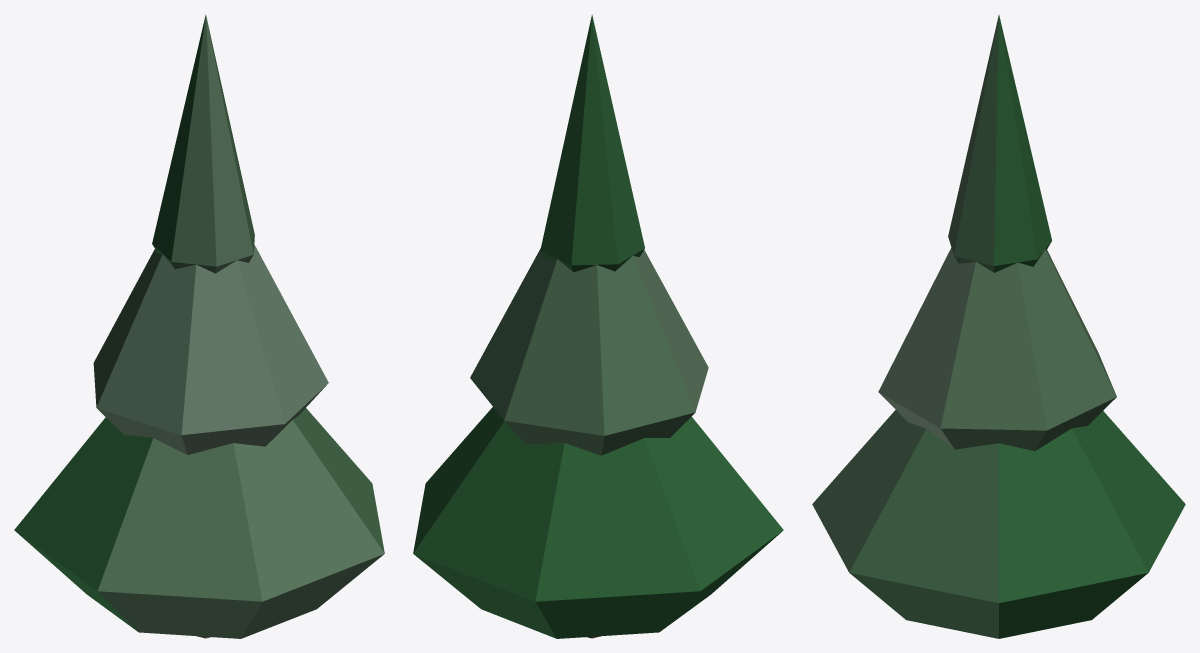
Rendered from conifer_spire_s.glb.
3 renders of one model, left to right at view 1: azimuth 30°, elevation 25°; view 2: azimuth 150°, elevation 25°; view 3: azimuth 270°, elevation 25°, orthographic.
Parts seen in each view (by area): view 1: conifer_spire_s; view 2: conifer_spire_s; view 3: conifer_spire_s.
Part boxes in pixels (bbox=[...]): conifer_spire_s: bbox=[14, 14, 384, 638]; conifer_spire_s: bbox=[413, 14, 783, 638]; conifer_spire_s: bbox=[812, 15, 1185, 638].
Size of the model in its own units: 1.67 by 3.07 by 1.72.
